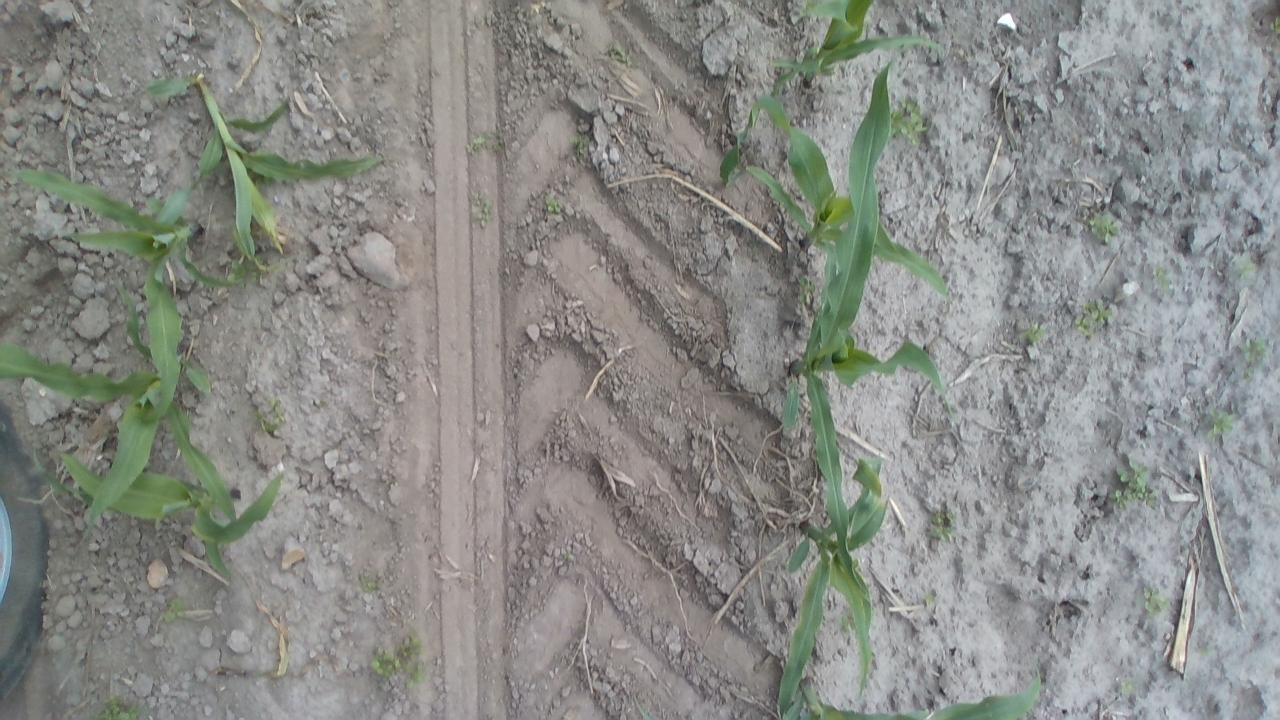Maize: (750, 51, 940, 548), (719, 26, 951, 305), (11, 145, 236, 422), (0, 292, 236, 535), (131, 64, 399, 275), (34, 446, 295, 582), (771, 449, 890, 714), (783, 663, 1049, 715), (768, 0, 948, 70)
Weeds: (371, 632, 428, 692), (1109, 457, 1160, 511), (887, 97, 932, 148), (1072, 295, 1114, 336), (250, 397, 290, 440), (1084, 209, 1124, 247), (92, 695, 150, 719), (923, 508, 959, 546), (1200, 406, 1238, 442), (1140, 582, 1172, 616), (470, 190, 494, 232), (1149, 262, 1176, 298), (1228, 254, 1260, 284), (465, 131, 500, 158), (358, 566, 385, 600), (1240, 334, 1268, 365), (158, 598, 190, 625), (1021, 321, 1050, 349), (794, 274, 818, 306), (607, 42, 636, 68), (224, 256, 250, 284), (568, 131, 593, 160), (540, 194, 568, 217), (1113, 676, 1139, 699), (920, 590, 940, 610), (1202, 634, 1216, 660), (1268, 12, 1280, 38), (1240, 367, 1257, 380)
